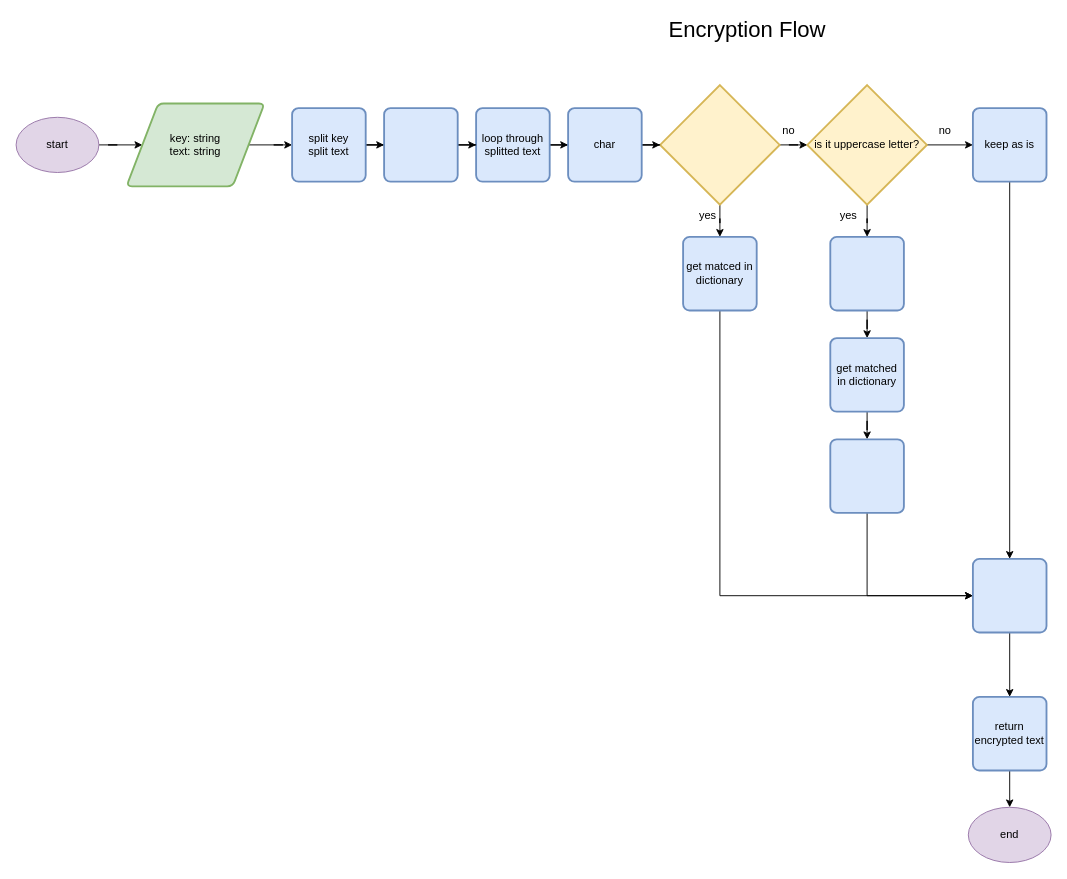
This 1067x879 diagram has some shape labels left out. The shapes that lost their labels are listed below. From the top down, each one's centre as x and y in pixels, then its label:
At [420,144]: "create dictionary alphabet:key".
At [719,144]: "exist?".
At [866,273]: "to lower case".
At [866,475]: "to upper case".
At [1009,595]: "append to result string".
